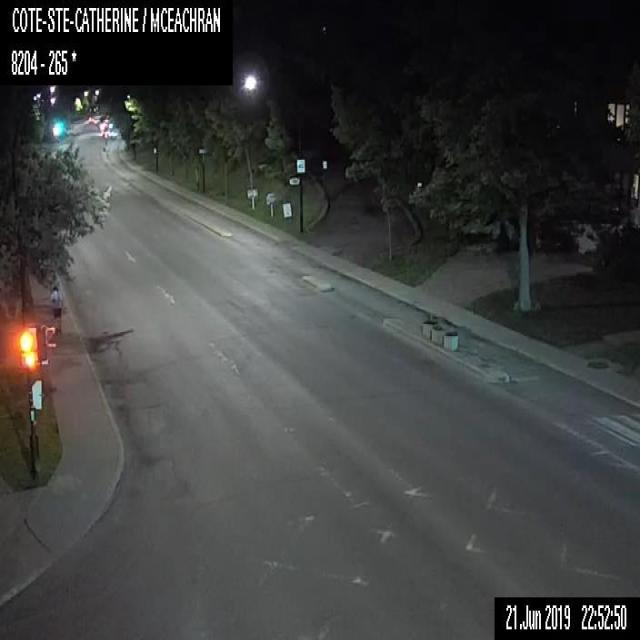pedestrian: (50, 286, 61, 334)
